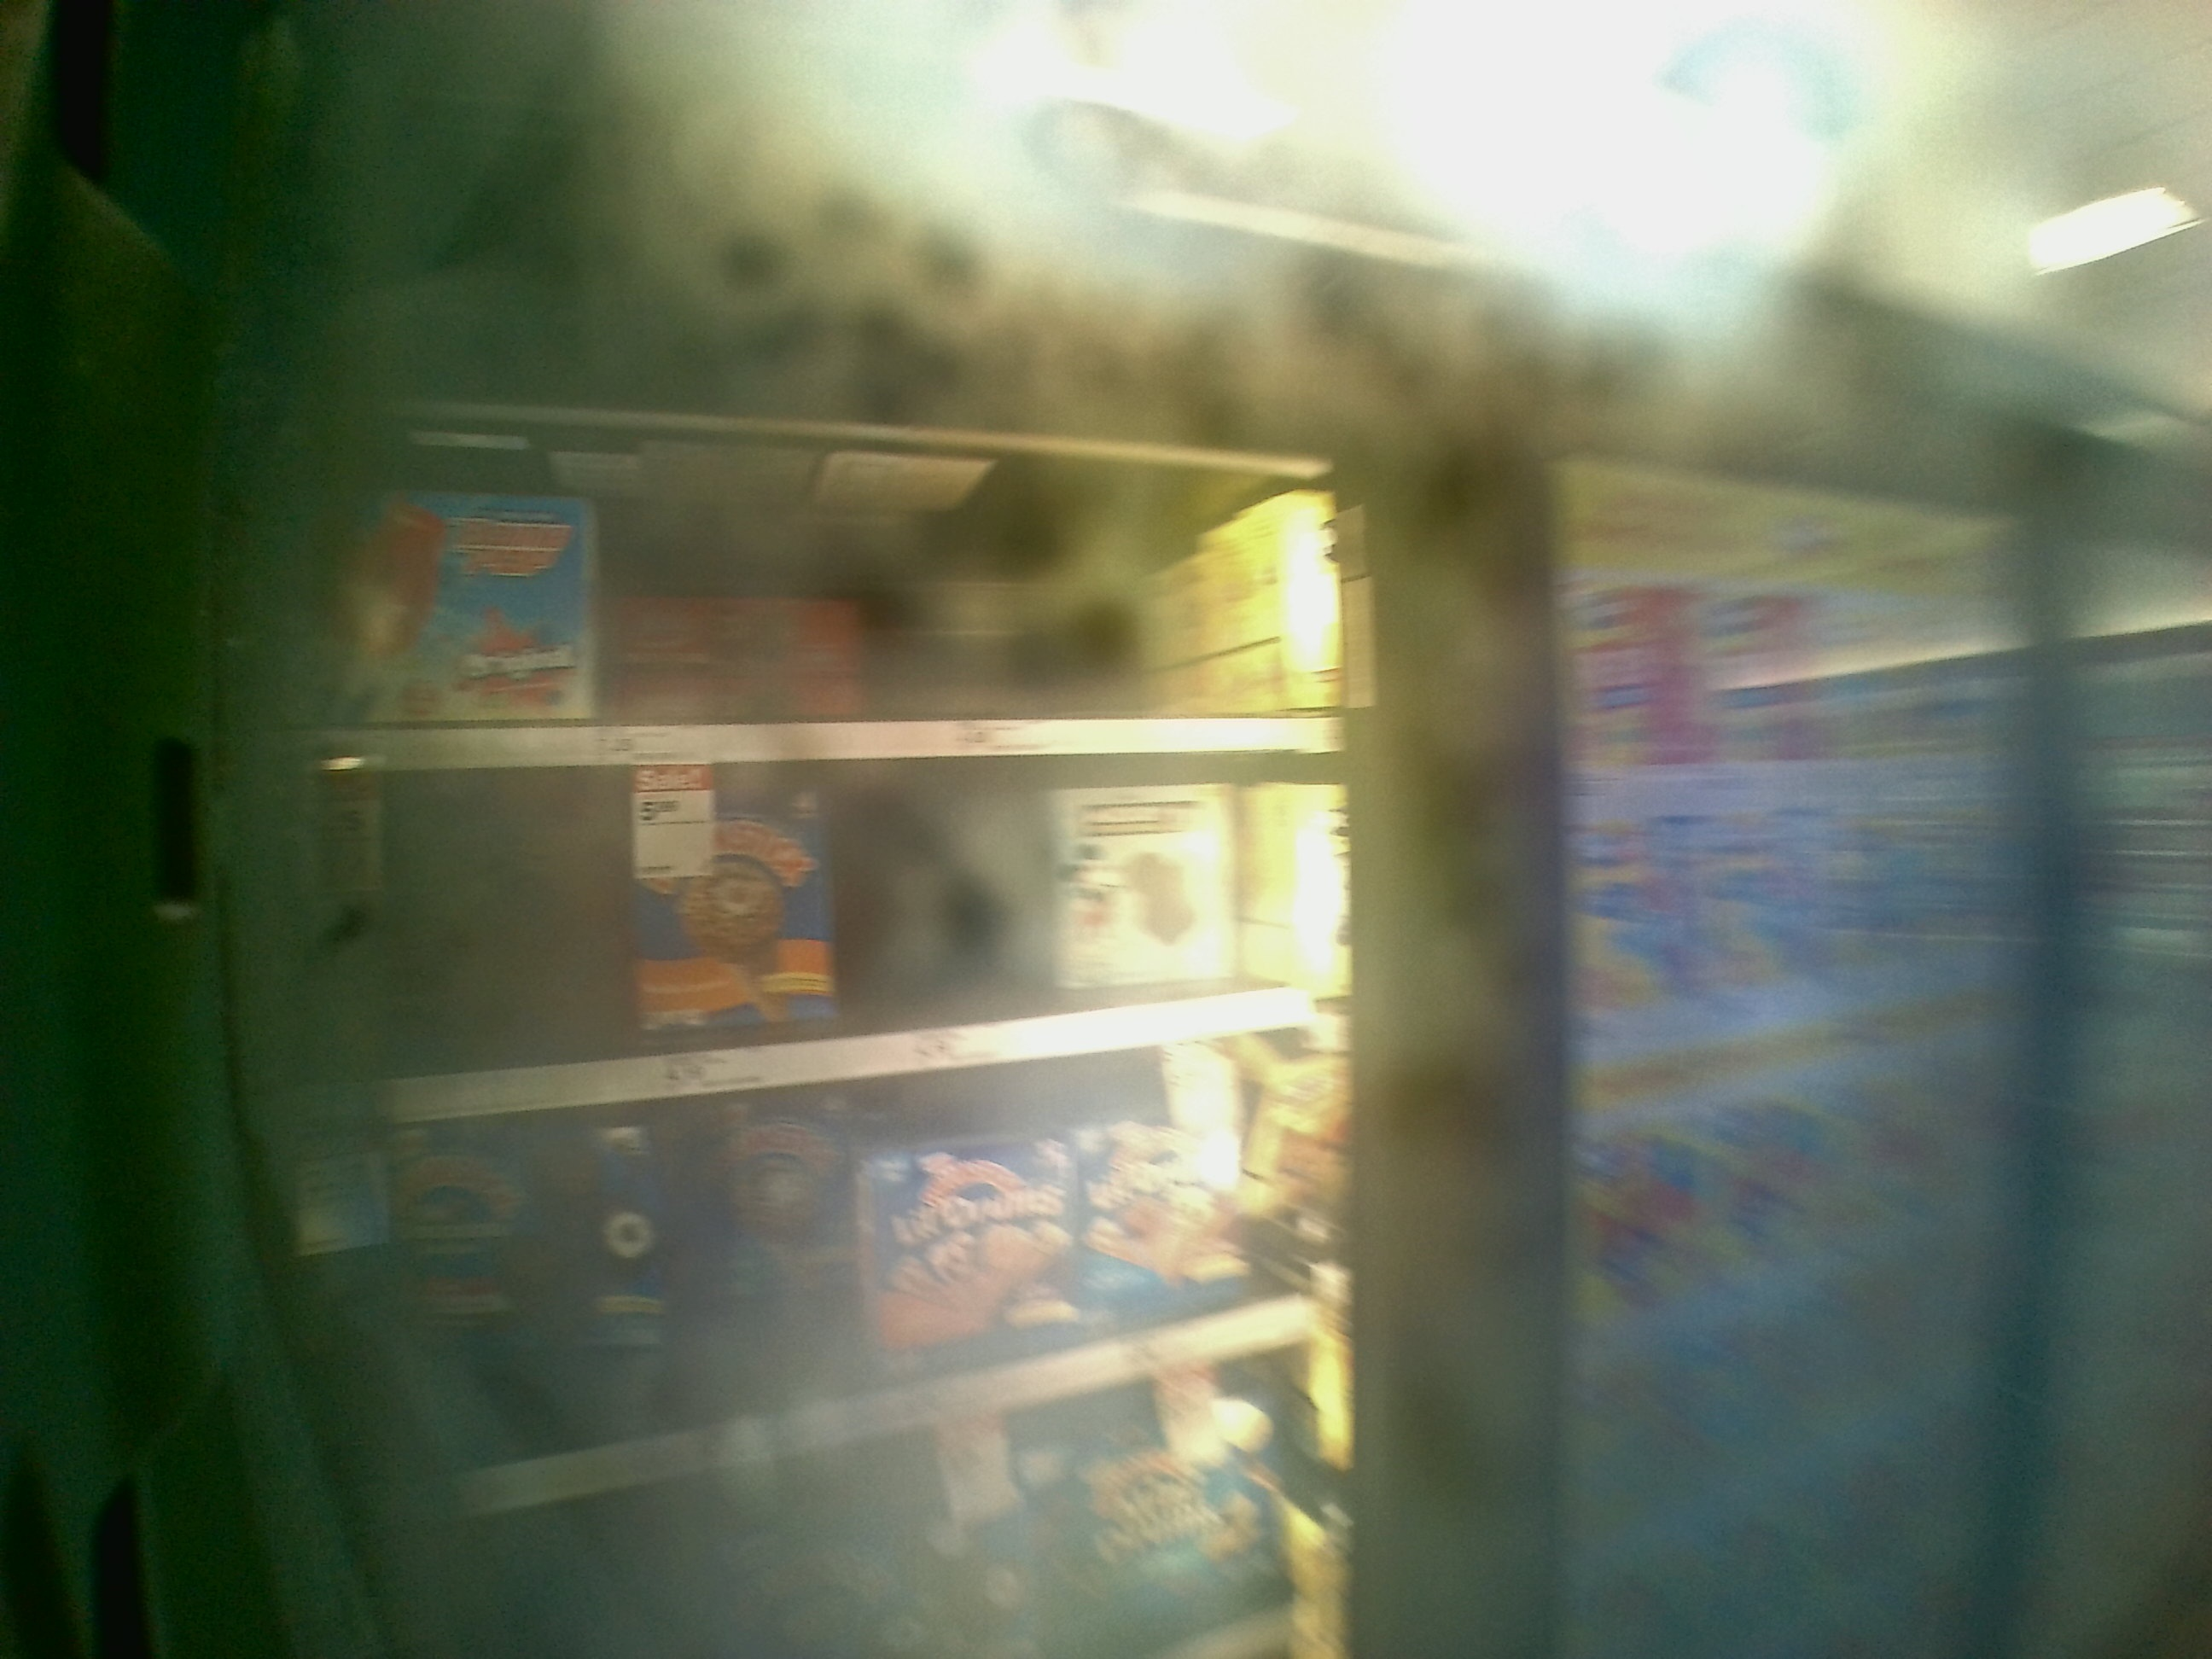shelf: (308, 742, 1355, 1126), (280, 427, 1345, 772)
